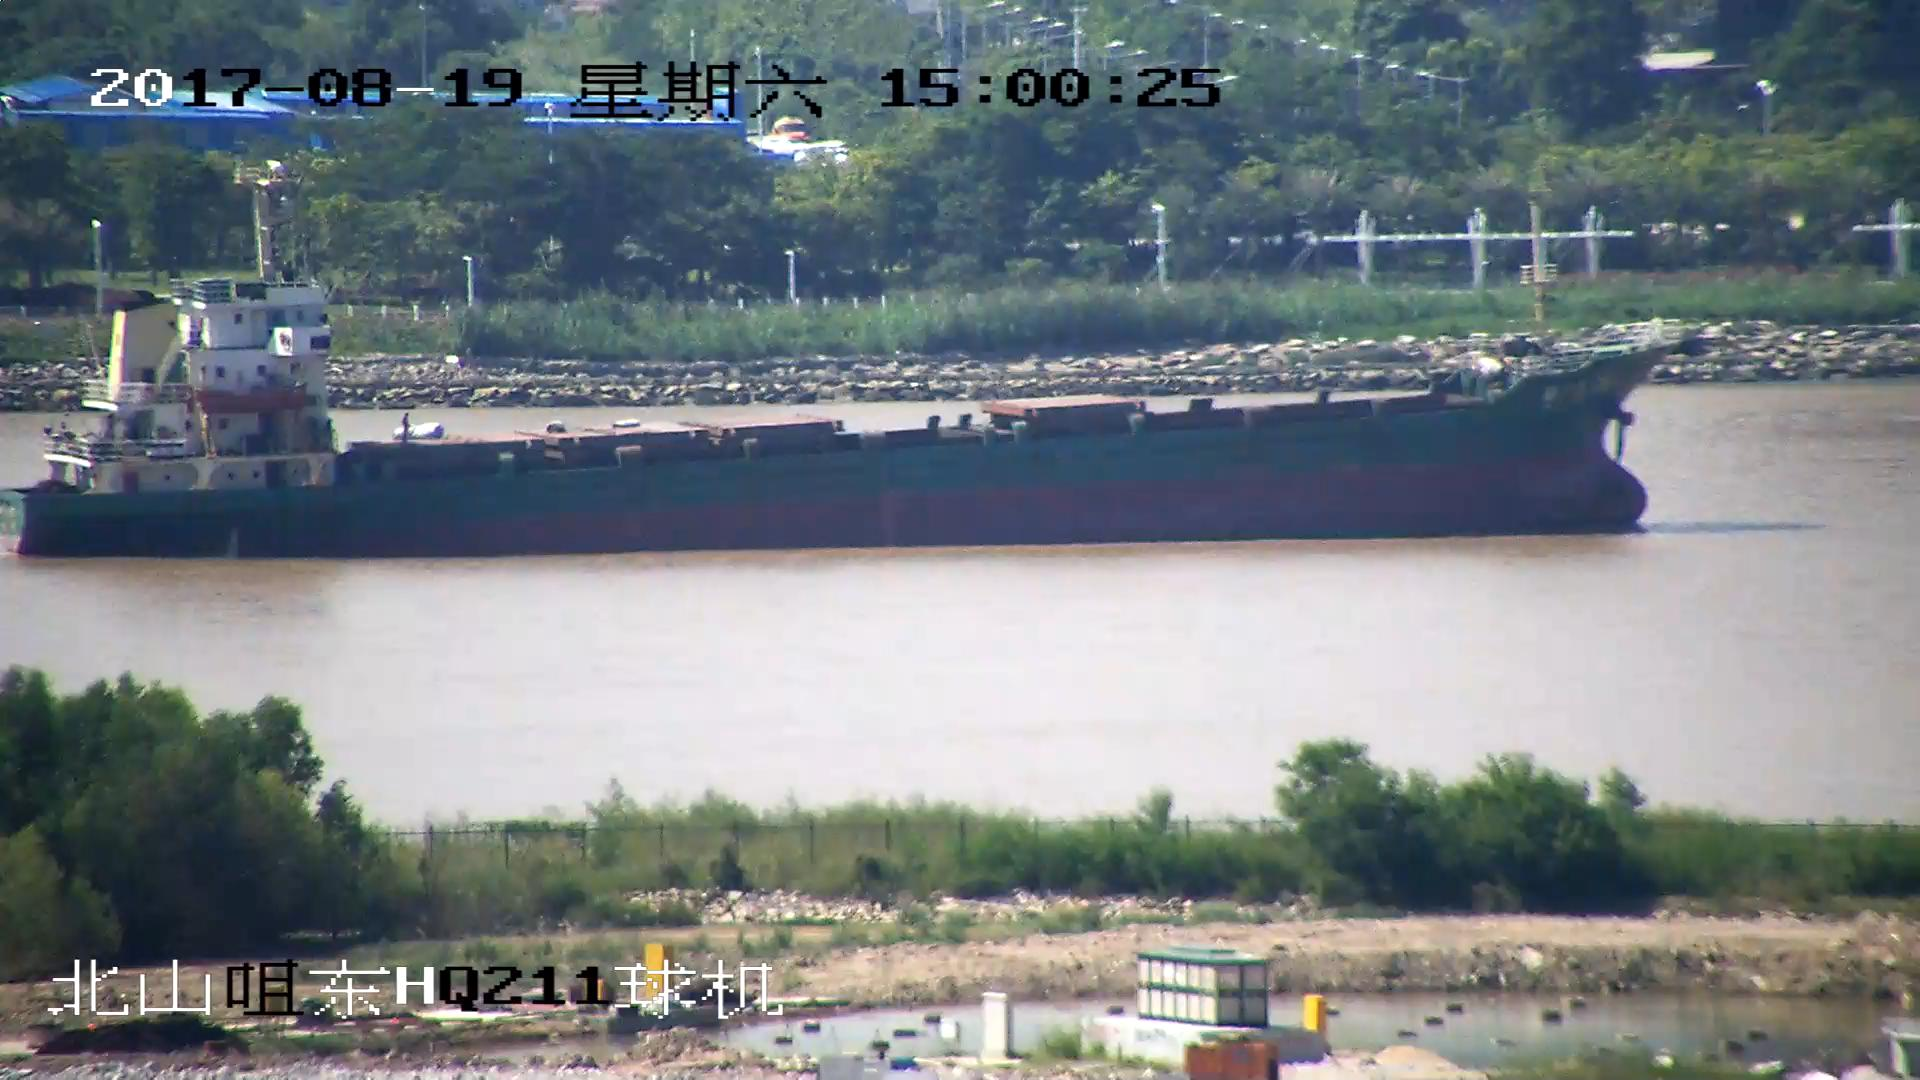general cargo ship: (1, 232, 1678, 551)
